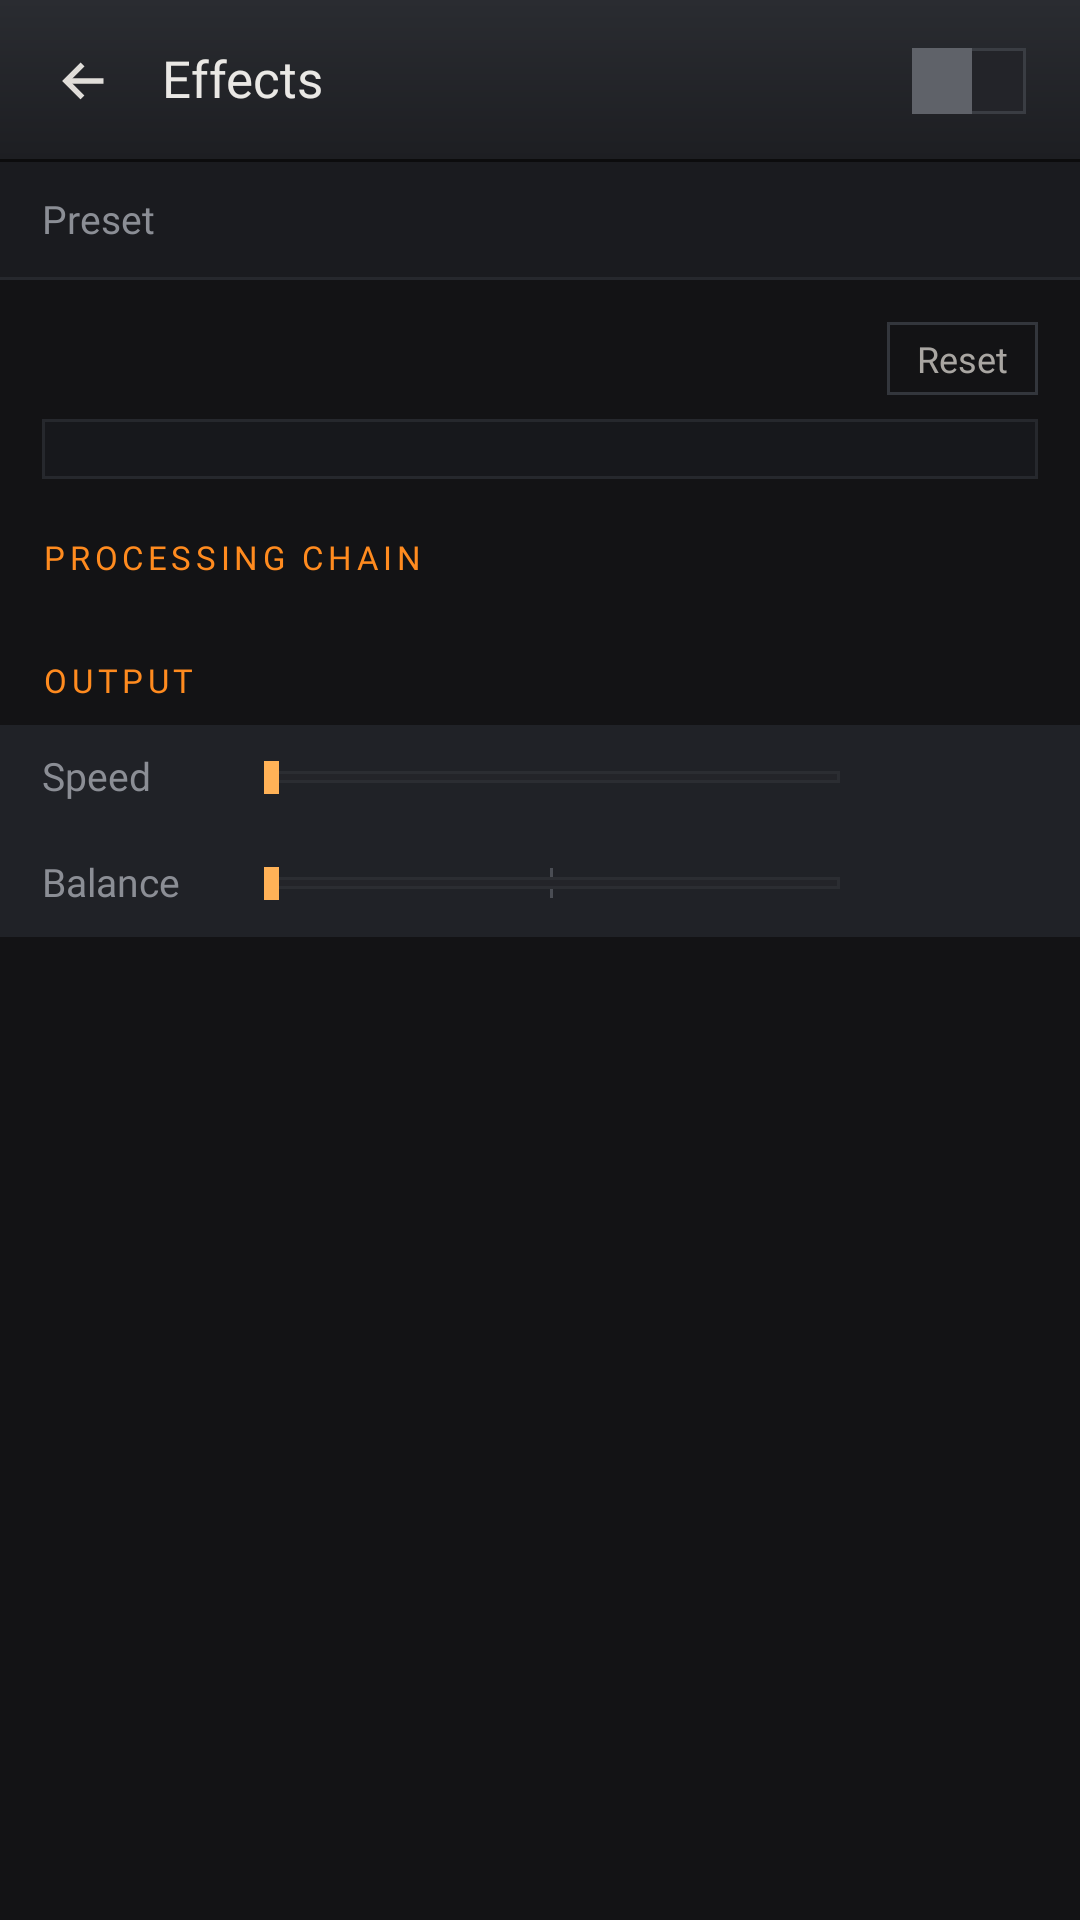

Locate icon controls on the screen. Image size 1080x1920, boxes as [x1, y1, x2, y2].
Back: [62, 62, 104, 100]
